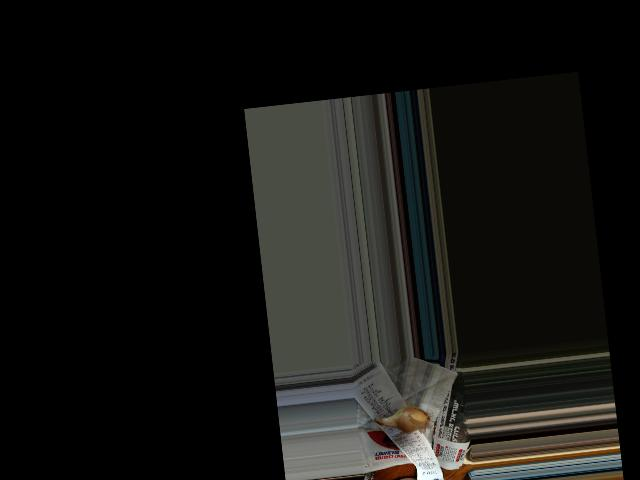onion: (392, 406, 429, 433)
